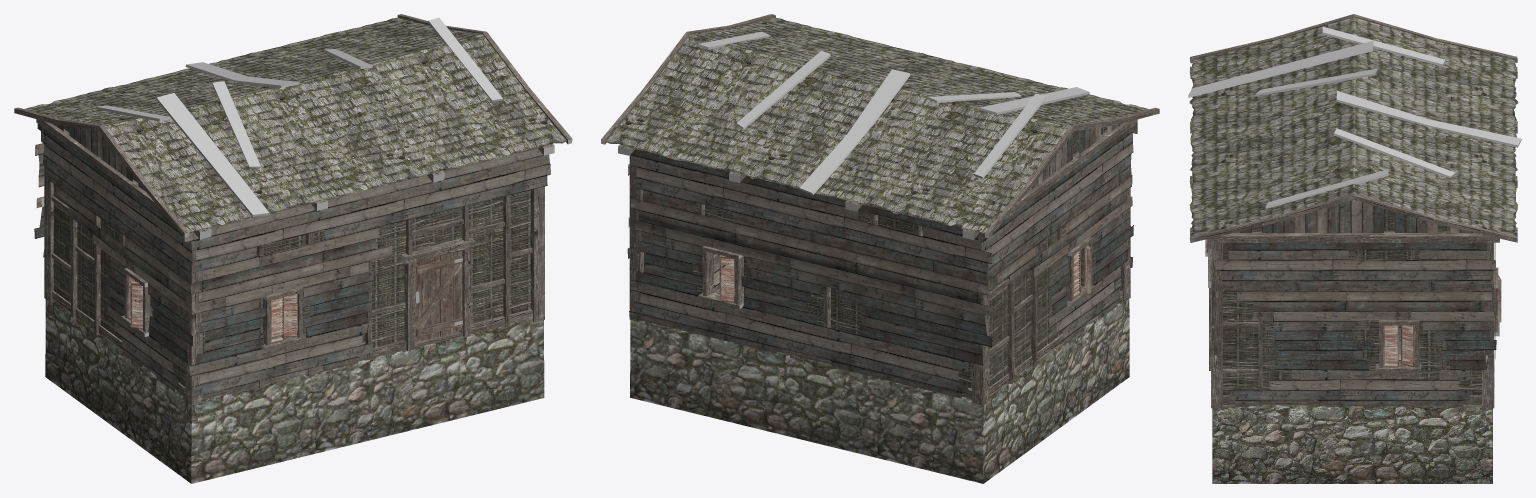
File: House9_LOD1.fbx
3 renders of one model, left to right at view 1: azimuth 30°, elevation 25°; view 2: azimuth 150°, elevation 25°; view 3: azimuth 270°, elevation 25°, orthographic. The views are drawn at different scales.
Visible parts, largest first — view 1: Base, Roof, Floor, Doors; view 2: Base, Roof, Floor; view 3: Roof, Base, Floor.
Part boxes in pixels (left/top/right/bottom): Base: left=34, top=124, right=550, bottom=405; Roof: left=14, top=14, right=572, bottom=239; Floor: left=45, top=287, right=544, bottom=483; Doors: left=414, top=251, right=462, bottom=341; Base: left=627, top=123, right=1137, bottom=405; Roof: left=601, top=14, right=1159, bottom=239; Floor: left=630, top=260, right=1129, bottom=483; Roof: left=1188, top=14, right=1521, bottom=242; Base: left=1205, top=239, right=1501, bottom=408; Floor: left=1212, top=325, right=1492, bottom=483.
Size of the model in its own units: 10.67 by 8.32 by 8.27.
